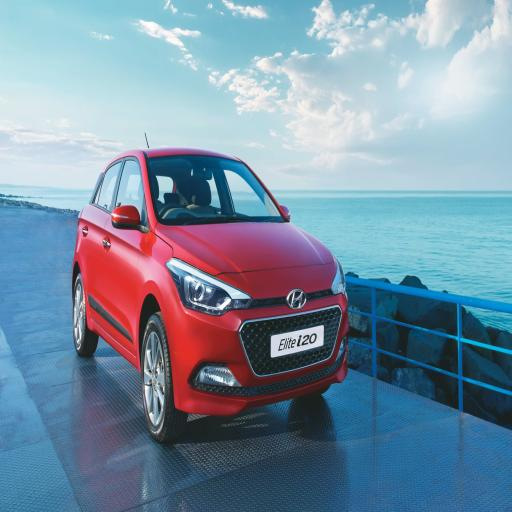License: (268, 326, 325, 354)
